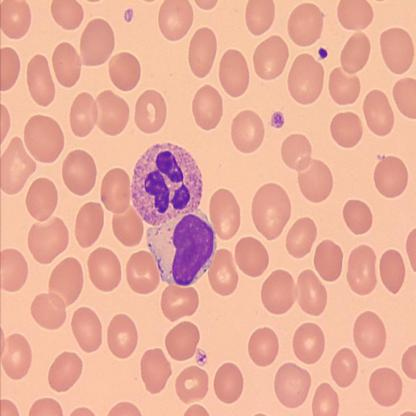Atypical lymphocyte: (130, 141, 216, 286)
